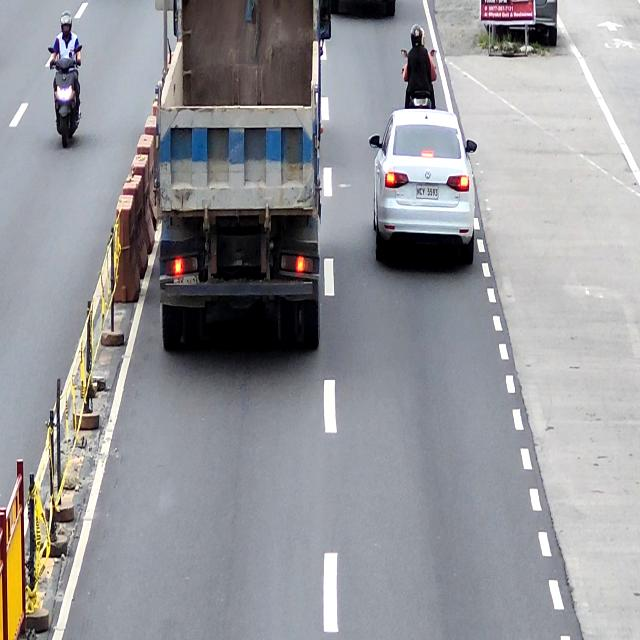Car: (370, 110, 479, 270)
License-Plate: (414, 183, 438, 200)
Motorcycle: (402, 46, 437, 110)
Truck: (159, 0, 332, 350)
